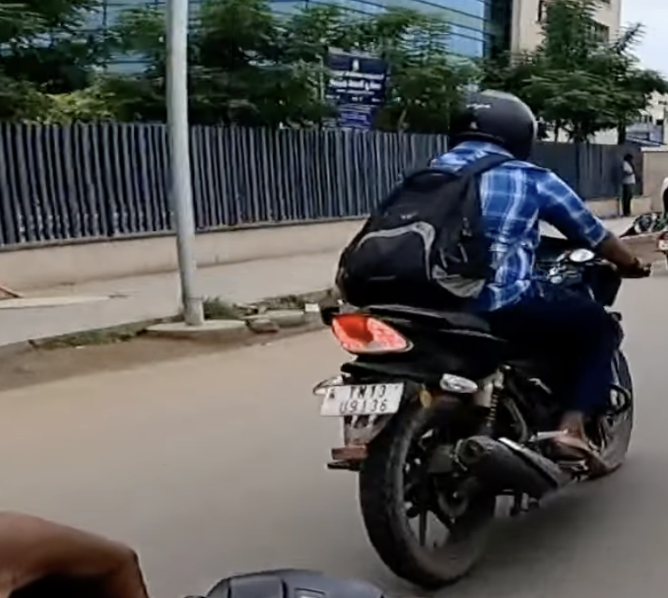motor: (237, 212, 667, 591)
number: (303, 364, 420, 423)
with helmet: (448, 87, 532, 158)
